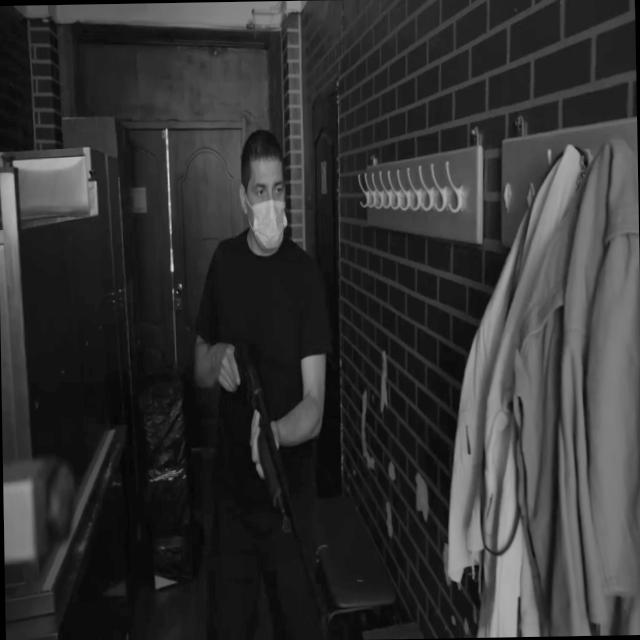gun: (232, 332, 318, 592)
person with a gun: (190, 128, 329, 604)
